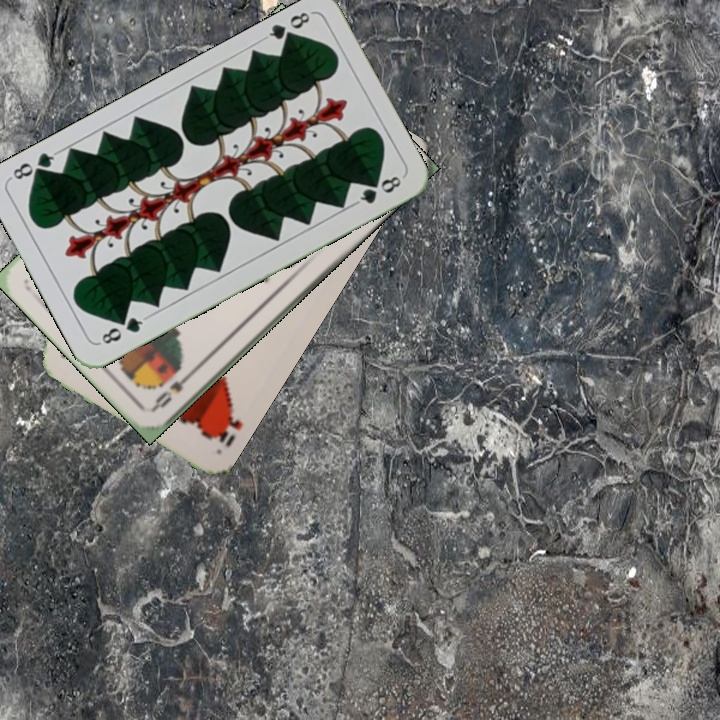G8: (260, 7, 313, 48), (95, 312, 149, 347)
HO: (207, 399, 246, 451)
SO: (149, 366, 197, 413)
